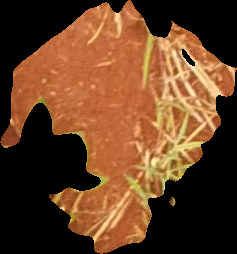soil: (4, 3, 234, 251)
